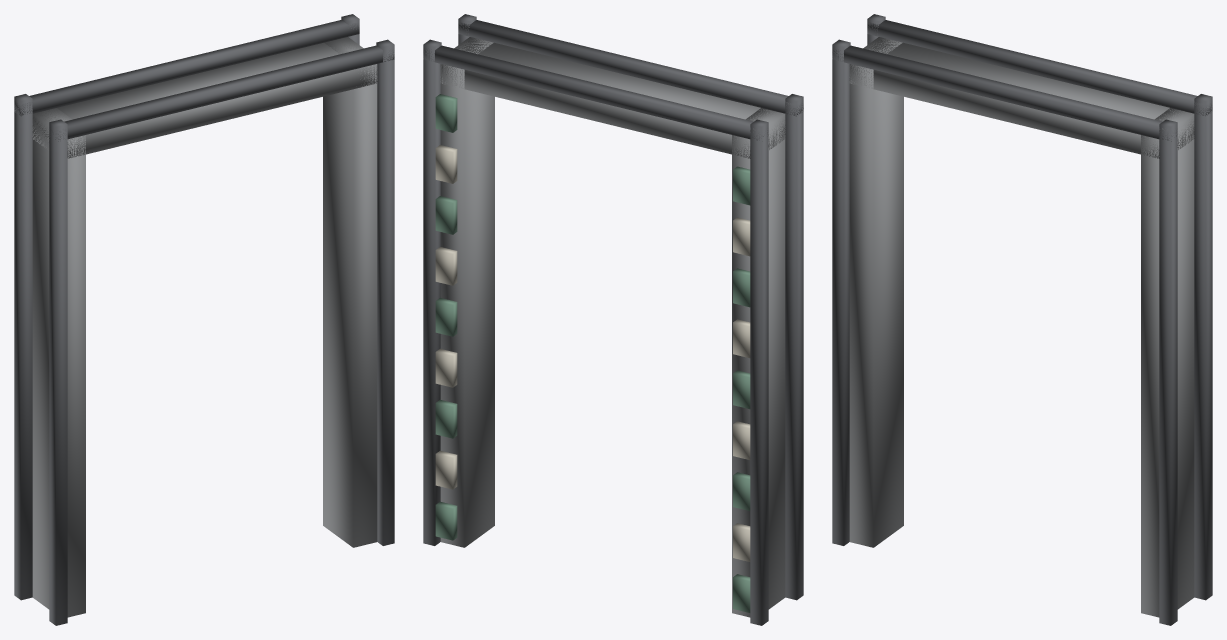
The model's file is doorway_tile_return_w122_h200_d24.glb.
3 renders of one model, left to right at view 1: azimuth 30°, elevation 25°; view 2: azimuth 150°, elevation 25°; view 3: azimuth 330°, elevation 25°, orthographic.
Visible parts, largest first — view 1: world; view 2: world; view 3: world.
Boxes of the visible parts, x1,y1,x2,y2 form: world: (14, 14, 394, 625); world: (423, 14, 803, 625); world: (832, 14, 1212, 625).
Size of the model in its own units: 1.55 by 2.18 by 0.3296.
